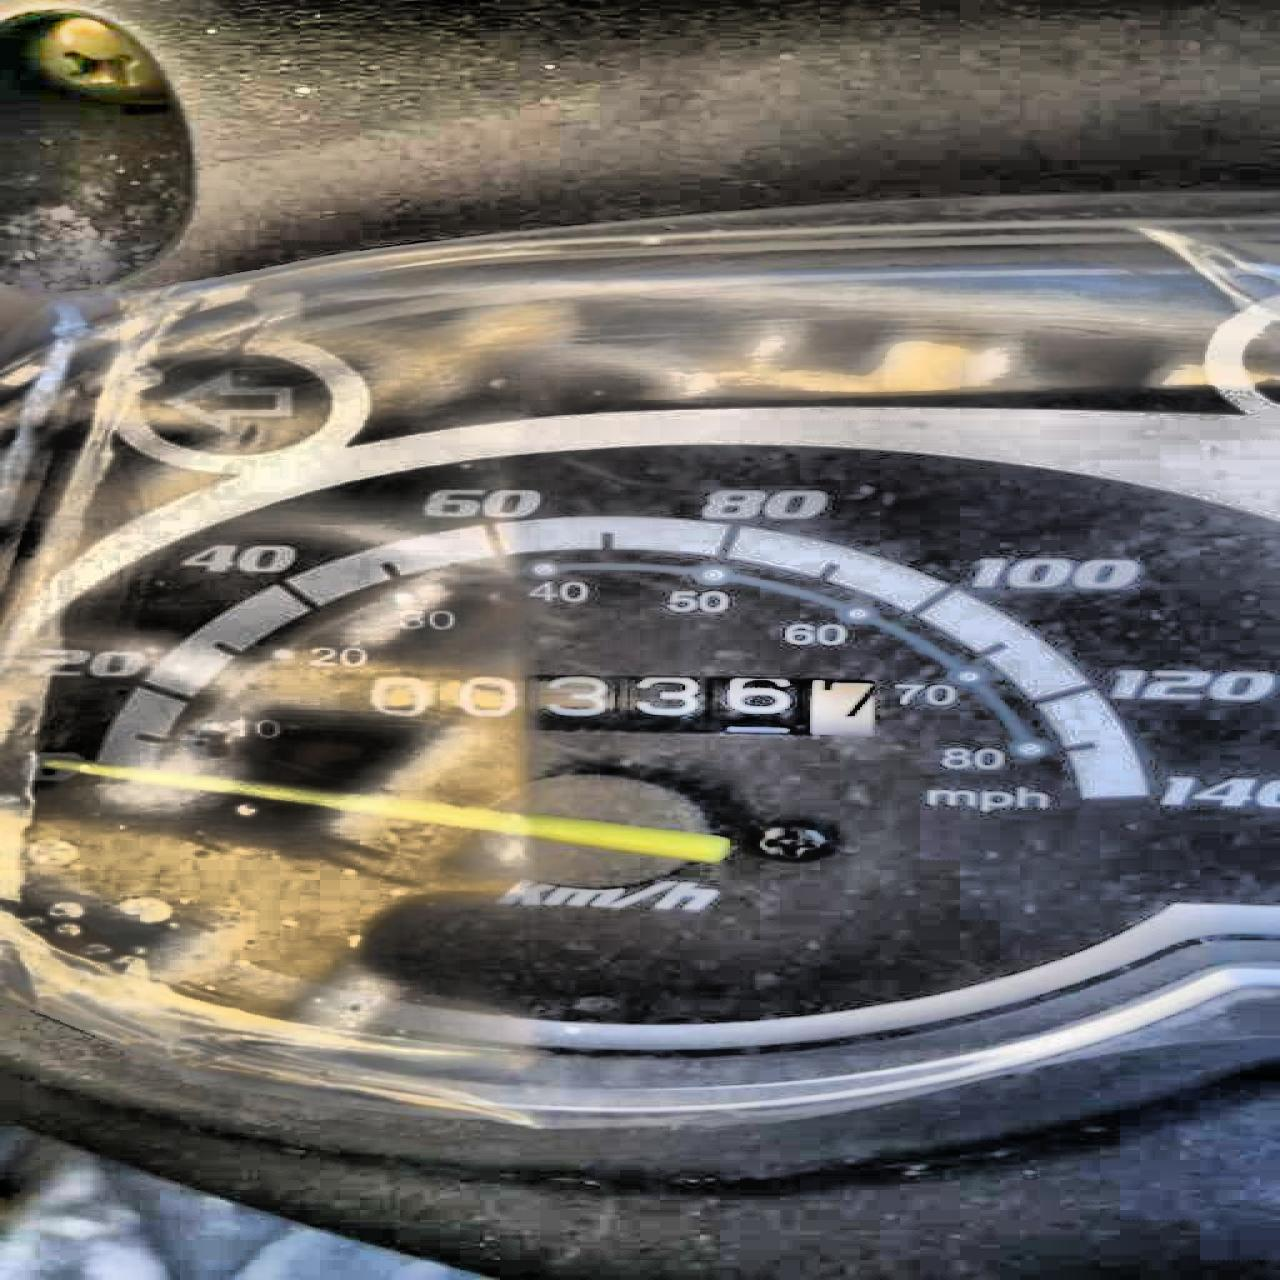0: (360, 673, 430, 719), (450, 673, 520, 719)
3: (627, 674, 702, 716), (540, 673, 610, 717)
6: (720, 672, 792, 714)
7: (810, 675, 874, 719)
odometer: (291, 669, 878, 738)
